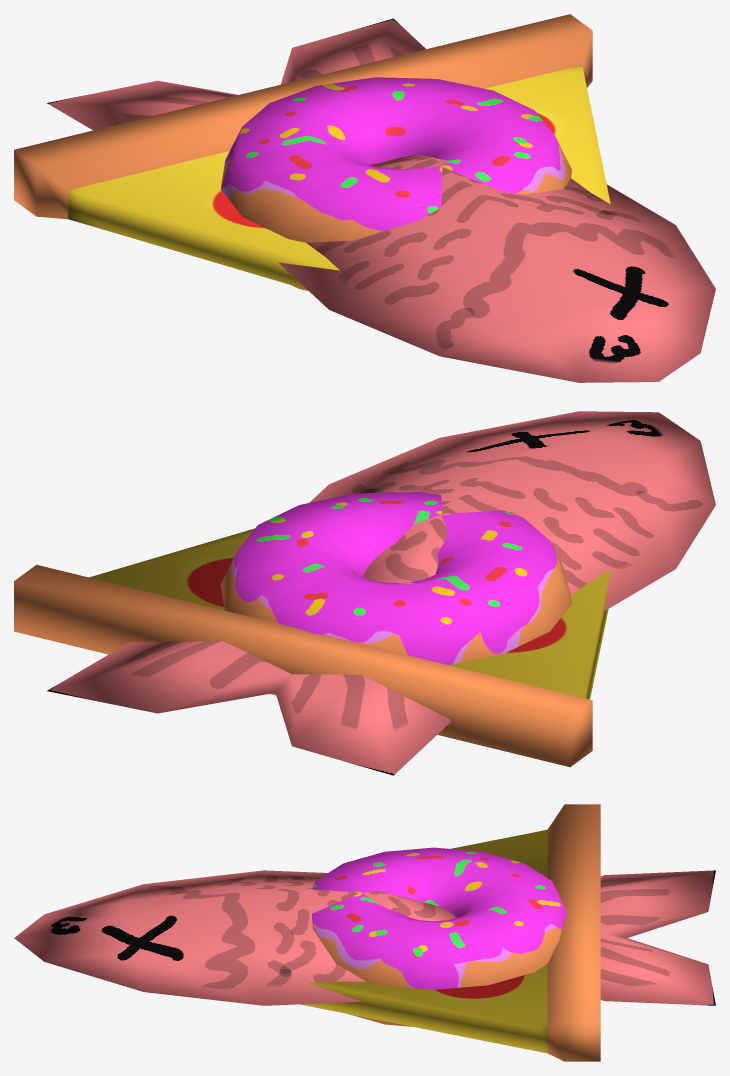
Rendered from food.glb.
3 renders of one model, top to bottom at view 1: azimuth 30°, elevation 25°; view 2: azimuth 150°, elevation 25°; view 3: azimuth 270°, elevation 25°, orthographic. The views are drawn at different scales.
Parts seen in each view (by area): view 1: Fish, Pitha, Donut; view 2: Fish, Pitha, Donut; view 3: Fish, Donut, Pitha.
Boxes of the visible parts, x1=… form: Fish: x1=47, y1=18, x2=715, y2=382; Pitha: x1=14, y1=14, x2=610, y2=289; Donut: x1=220, y1=77, x2=571, y2=290; Fish: x1=47, y1=411, x2=715, y2=775; Pitha: x1=14, y1=528, x2=610, y2=767; Donut: x1=220, y1=491, x2=571, y2=664; Fish: x1=14, y1=870, x2=715, y2=1005; Donut: x1=311, y1=847, x2=566, y2=1026; Pitha: x1=300, y1=804, x2=600, y2=1061.
Bounding box in the file's own units: 3.37 × 0.6586 × 4.6.
1 material, 1 textured.
